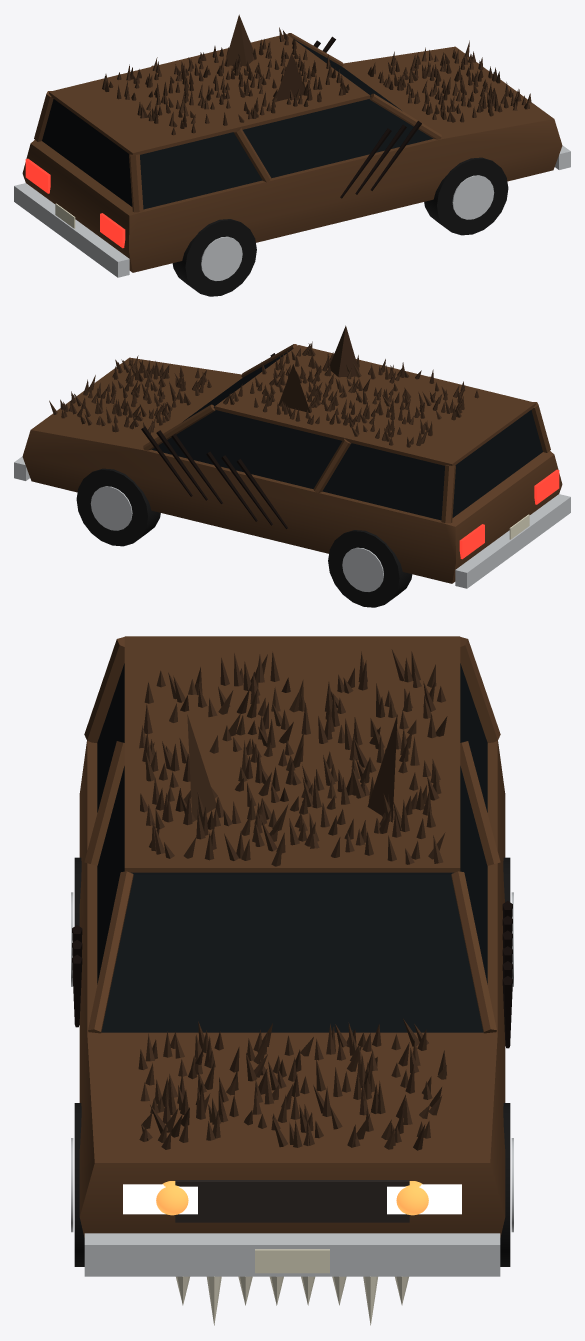
File: SM_80s_Car_FurHatch.glb
3 renders of one model, top to bottom at view 1: azimuth 30°, elevation 25°; view 2: azimuth 150°, elevation 25°; view 3: azimuth 270°, elevation 25°, orthographic. The views are drawn at different scales.
Visible parts, largest first — view 1: SM_80s_Car_FurHatch; view 2: SM_80s_Car_FurHatch; view 3: SM_80s_Car_FurHatch.
Boxes of the visible parts, x1,y1,x2,y2 form: SM_80s_Car_FurHatch: (14, 14, 570, 296); SM_80s_Car_FurHatch: (14, 325, 570, 607); SM_80s_Car_FurHatch: (71, 636, 513, 1325).
Bounding box in the file's own units: 4.2 × 1.75 × 1.77.
